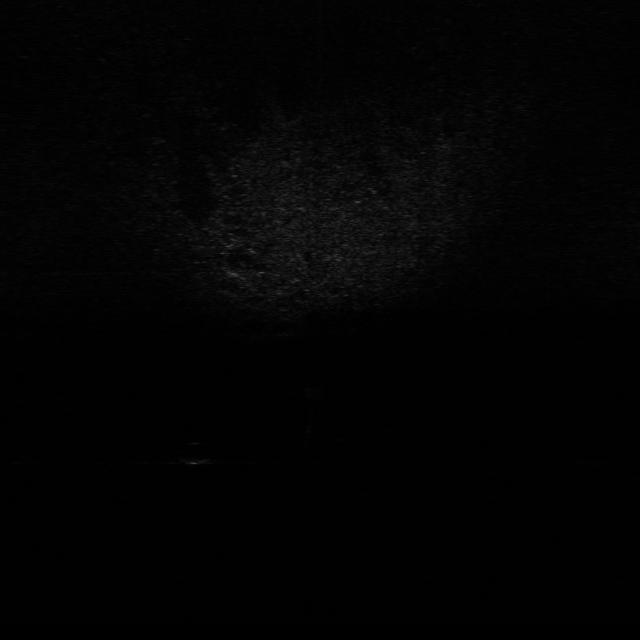ball: (176, 438, 223, 468)
cube: (303, 383, 332, 406)
